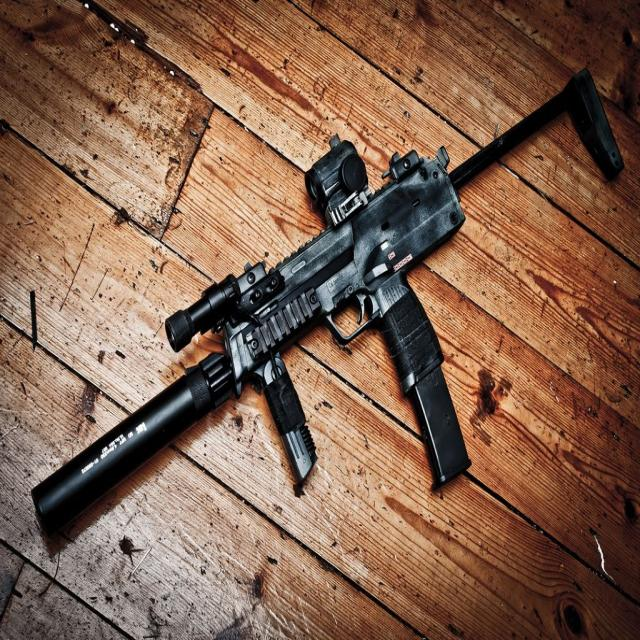firearm: (33, 64, 623, 550)
